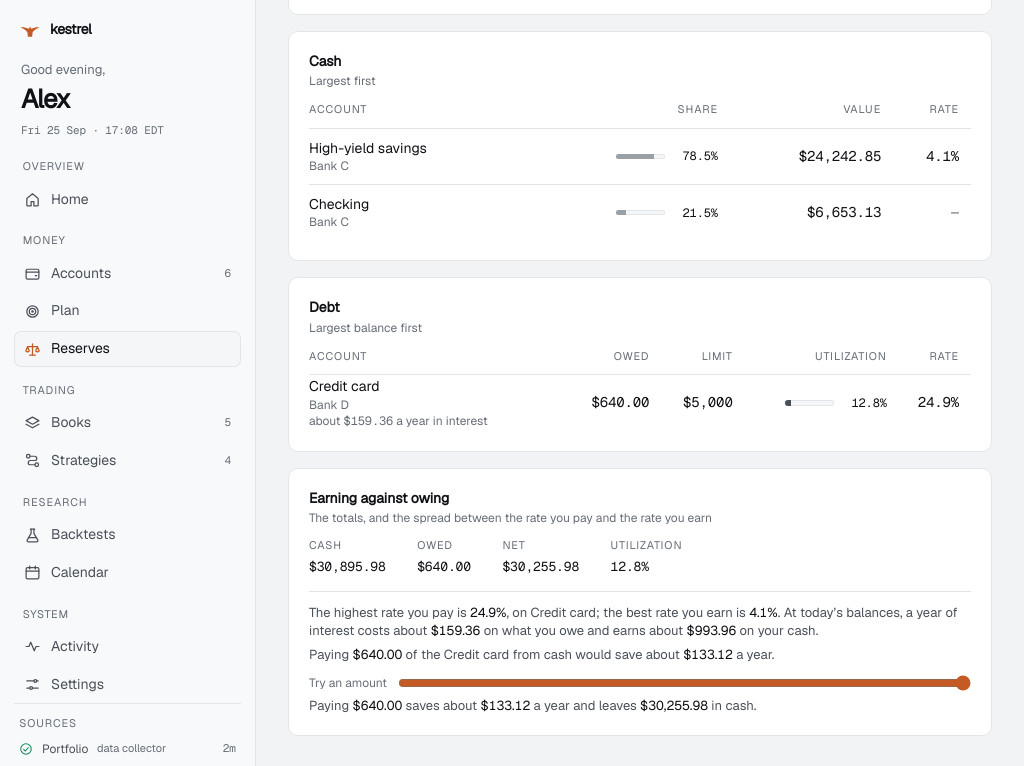
Test: Reserves › lets you try paying the dearest card from cash, and says what it saves and leaves
(page scrolled)
Set the slider named "Pay this much of the Credit card from cash" to "320" at (684, 683), box [398,675,971,691]
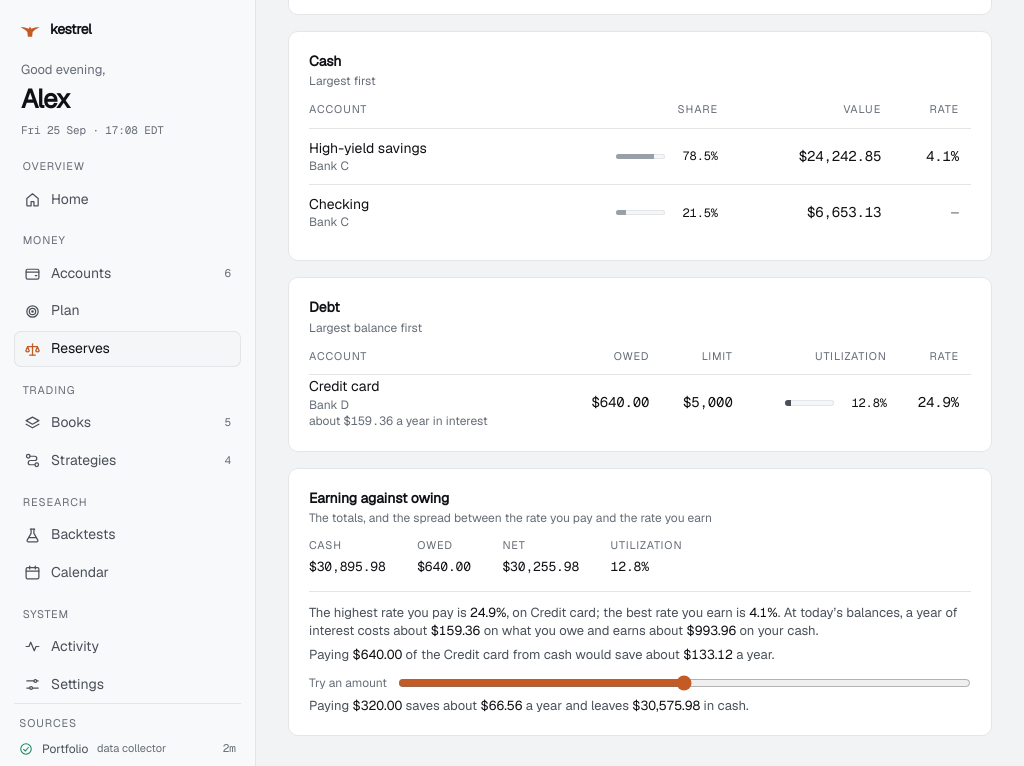
Result: the element "Earning against owing" shows "Paying $320.00 saves about $66.56 a year and leaves $30,575.98 in cash." at [288,468,992,736]
